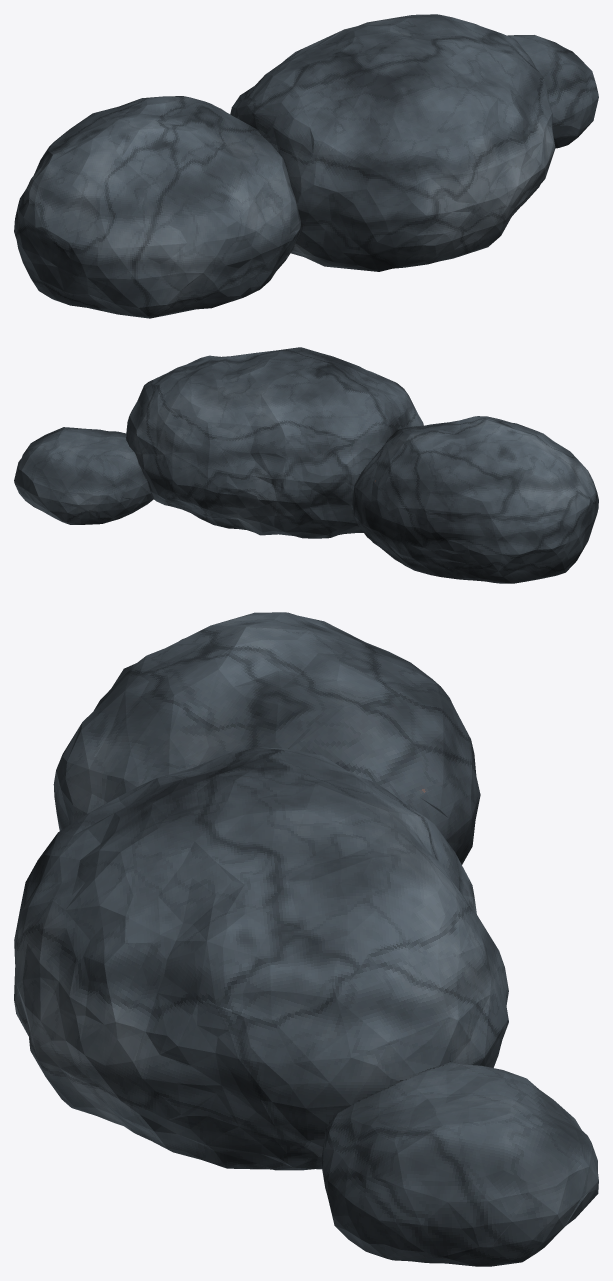
Rendered from snow_boulders_a.glb.
3 renders of one model, top to bottom at view 1: azimuth 30°, elevation 25°; view 2: azimuth 150°, elevation 25°; view 3: azimuth 270°, elevation 25°, orthographic. The views are drawn at different scales.
Parts seen in each view (by area): view 1: snow_boulders_a; view 2: snow_boulders_a; view 3: snow_boulders_a.
Part boxes in pixels (x1,y1,x2,y2): snow_boulders_a: (14,14,598,318); snow_boulders_a: (14,347,598,583); snow_boulders_a: (14,612,598,1266).
Size of the model in its own units: 2.23 by 0.595 by 1.13.
1 material, 1 textured.
